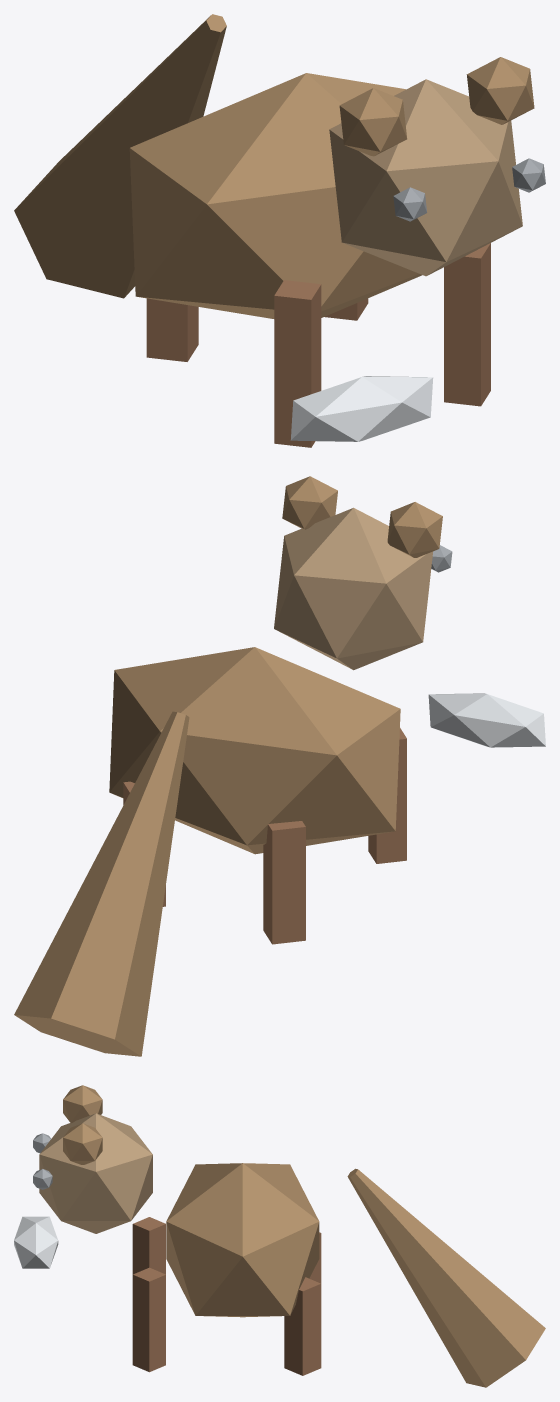
The model's file is river_otter.glb.
3 renders of one model, top to bottom at view 1: azimuth 30°, elevation 25°; view 2: azimuth 150°, elevation 25°; view 3: azimuth 270°, elevation 25°, orthographic. The views are drawn at different scales.
Parts seen in each view (by area): view 1: body.002, head.011, tail.003, fish, front_1, front_0, ear_0.001, ear_1.001, leg_0.010, eye_1.001, eye_0.001; view 2: body.002, tail.003, head.011, fish, leg_0.010, ear_0.001, ear_1.001, front_0; view 3: body.002, tail.003, head.011, front_1, leg_1.010, fish, front_0, ear_1.001, ear_0.001.
Part boxes in pixels (bbox=[...]): body.002: bbox=[129, 73, 422, 318]; head.011: bbox=[329, 79, 522, 276]; tail.003: bbox=[14, 14, 226, 298]; fish: bbox=[290, 376, 433, 441]; front_1: bbox=[444, 243, 490, 406]; front_0: bbox=[274, 280, 321, 447]; ear_0.001: bbox=[339, 88, 407, 156]; ear_1.001: bbox=[466, 57, 534, 124]; leg_0.010: bbox=[146, 298, 198, 361]; eye_1.001: bbox=[512, 158, 545, 192]; eye_0.001: bbox=[393, 187, 427, 221]; body.002: bbox=[109, 647, 400, 854]; tail.003: bbox=[14, 711, 189, 1056]; head.011: bbox=[274, 507, 433, 670]; fish: bbox=[428, 693, 545, 747]; leg_0.010: bbox=[263, 821, 305, 944]; ear_0.001: bbox=[387, 502, 442, 557]; ear_1.001: bbox=[282, 476, 337, 529]; front_0: bbox=[368, 728, 406, 863]; body.002: bbox=[166, 1163, 319, 1317]; tail.003: bbox=[347, 1168, 545, 1387]; head.011: bbox=[39, 1113, 152, 1233]; front_1: bbox=[132, 1267, 165, 1372]; leg_1.010: bbox=[284, 1277, 321, 1375]; fish: bbox=[14, 1216, 58, 1268]; front_0: bbox=[132, 1217, 165, 1274]; ear_1.001: bbox=[63, 1123, 102, 1164]; ear_0.001: bbox=[63, 1085, 102, 1123].
Size of the model in its own units: 0.7534 by 0.9233 by 1.6.
